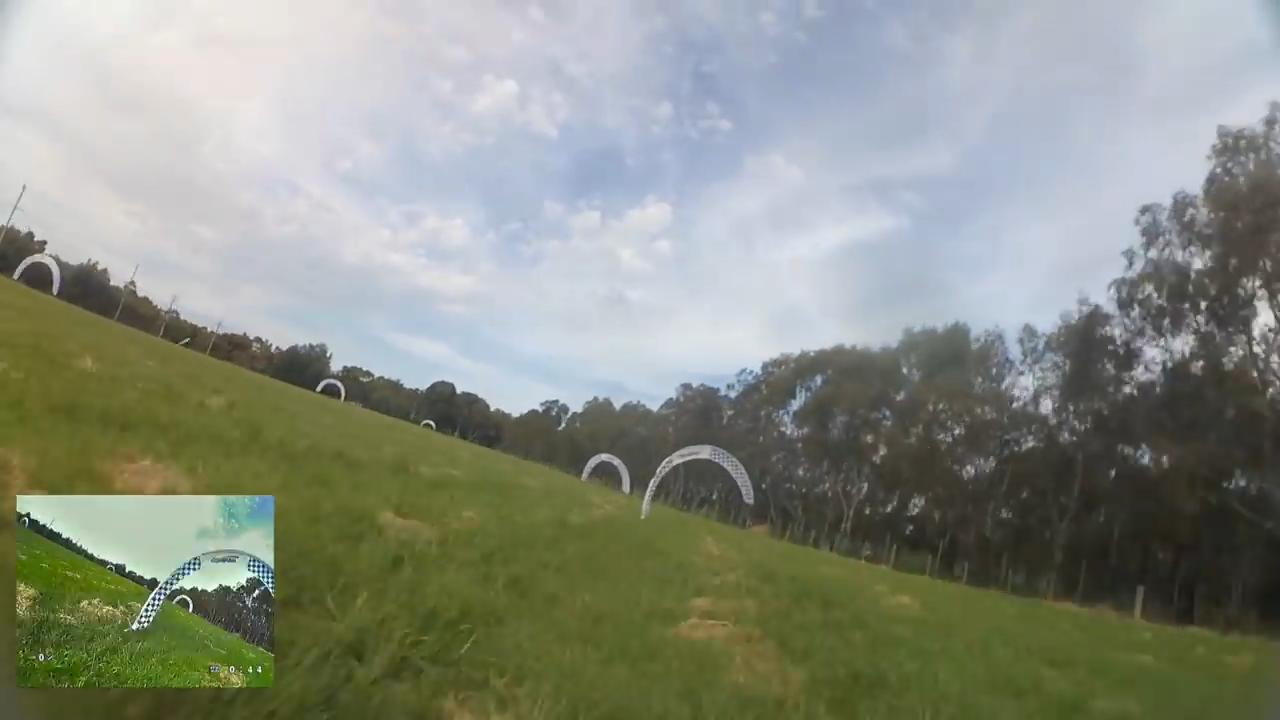gate: (638, 444, 759, 520), (577, 452, 632, 500), (13, 253, 63, 298)
